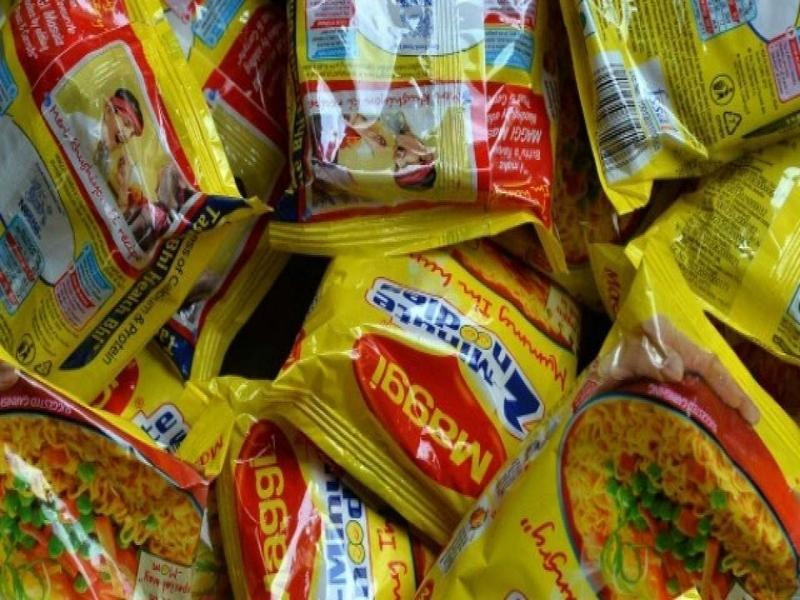maggi-small: (304, 235, 577, 508), (287, 1, 550, 212)
